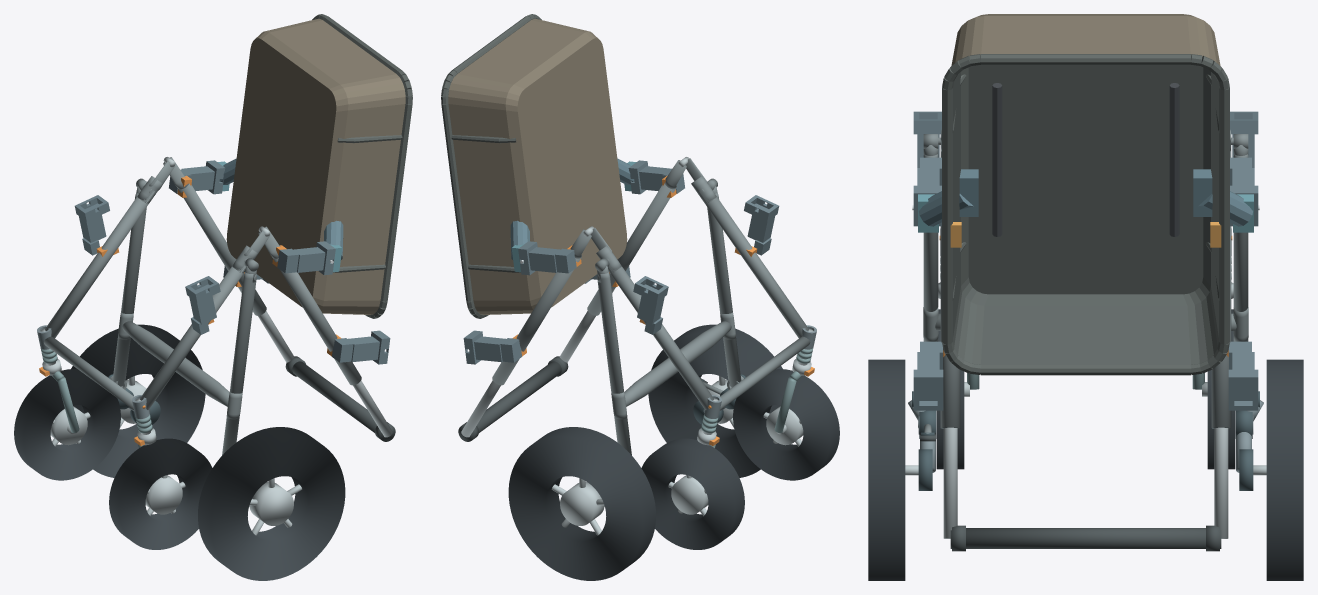
The model's file is S13_w550_state3_wheel_L.glb.
3 views of the same model, side by side, from view 1: azimuth 30°, elevation 25°; view 2: azimuth 150°, elevation 25°; view 3: azimuth 270°, elevation 25° (orthographic). The views are drawn at different scales.
Visible parts, largest first — view 1: S13_Cabin, RL_tire.002, FR_tire.002, FL_tire.002, RR_tire.002, main_lower_1.003, V46_rear_leg_-1.003, V46_rear_leg_1.003, V46_rearbar.003, main_lower_-1.003, main_upper_-1.003, round_handle.002 (+14 smaller); view 2: S13_Cabin, RR_tire.002, FL_tire.002, FR_tire.002, RL_tire.002, main_lower_-1.003, V46_rear_leg_1.003, V46_rear_leg_-1.003, V46_rearbar.003, main_lower_1.003, main_upper_1.003, round_handle.002 (+14 smaller); view 3: S13_Cabin, RL_tire.002, RR_tire.002, round_handle.002, S13_Cabin_Mount_M, Universal_Cabin_Receiver_H_1, Universal_Cabin_Receiver_H_-1, handle_slider_1.002, handle_slider_-1.002, main_upper_1.003, main_upper_-1.003, V46_rear_leg_1.003 (+9 smaller).
Part boxes in pixels (x1=…): S13_Cabin: x1=226, y1=14, x2=412, y2=318; RL_tire.002: x1=198, y1=427, x2=345, y2=580; FR_tire.002: x1=14, y1=369, x2=120, y2=480; FL_tire.002: x1=109, y1=438, x2=212, y2=549; RR_tire.002: x1=71, y1=324, x2=205, y2=477; main_lower_1.003: x1=45, y1=190, x2=154, y2=338; V46_rear_leg_-1.003: x1=222, y1=272, x2=256, y2=455; V46_rear_leg_1.003: x1=112, y1=193, x2=146, y2=386; V46_rearbar.003: x1=122, y1=321, x2=229, y2=406; main_lower_-1.003: x1=140, y1=265, x2=245, y2=409; main_upper_-1.003: x1=273, y1=258, x2=361, y2=385; round_handle.002: x1=292, y1=361, x2=394, y2=440; S13_Cabin: x1=441, y1=14, x2=627, y2=318; RR_tire.002: x1=508, y1=427, x2=655, y2=580; FL_tire.002: x1=733, y1=369, x2=839, y2=480; FR_tire.002: x1=641, y1=438, x2=744, y2=549; RL_tire.002: x1=648, y1=324, x2=782, y2=477; main_lower_-1.003: x1=699, y1=190, x2=808, y2=338; V46_rear_leg_1.003: x1=597, y1=272, x2=631, y2=455; V46_rear_leg_-1.003: x1=707, y1=193, x2=741, y2=386; V46_rearbar.003: x1=624, y1=321, x2=731, y2=406; main_lower_1.003: x1=608, y1=265, x2=713, y2=410; main_upper_1.003: x1=492, y1=258, x2=580, y2=385; round_handle.002: x1=459, y1=361, x2=561, y2=440; S13_Cabin: x1=942, y1=14, x2=1229, y2=375; RL_tire.002: x1=868, y1=359, x2=905, y2=580; RR_tire.002: x1=1266, y1=359, x2=1303, y2=580; round_handle.002: x1=950, y1=528, x2=1221, y2=548; S13_Cabin_Mount_M: x1=912, y1=169, x2=1259, y2=232; Universal_Cabin_Receiver_H_1: x1=1228, y1=341, x2=1258, y2=410; Universal_Cabin_Receiver_H_-1: x1=913, y1=341, x2=943, y2=410; handle_slider_1.002: x1=1214, y1=427, x2=1228, y2=538; handle_slider_-1.002: x1=943, y1=427, x2=957, y2=538; main_upper_1.003: x1=1211, y1=226, x2=1231, y2=428; main_upper_-1.003: x1=940, y1=226, x2=960, y2=428; V46_rear_leg_1.003: x1=1233, y1=154, x2=1248, y2=341.
Size of the model in its own units: 0.8022 by 1.13 by 0.7071.
